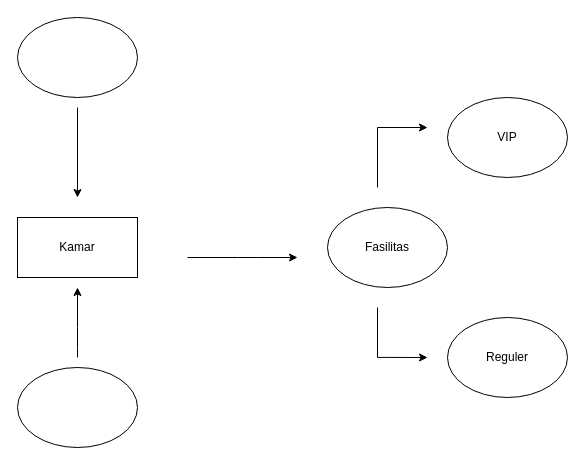
Image size: 585x465. Some labels were removed from this diagram. Here are the shapes that lost their labels. From the top down, the box of each, then its label:
(16, 16, 138, 98): no_kamar
(16, 366, 138, 448): harga
